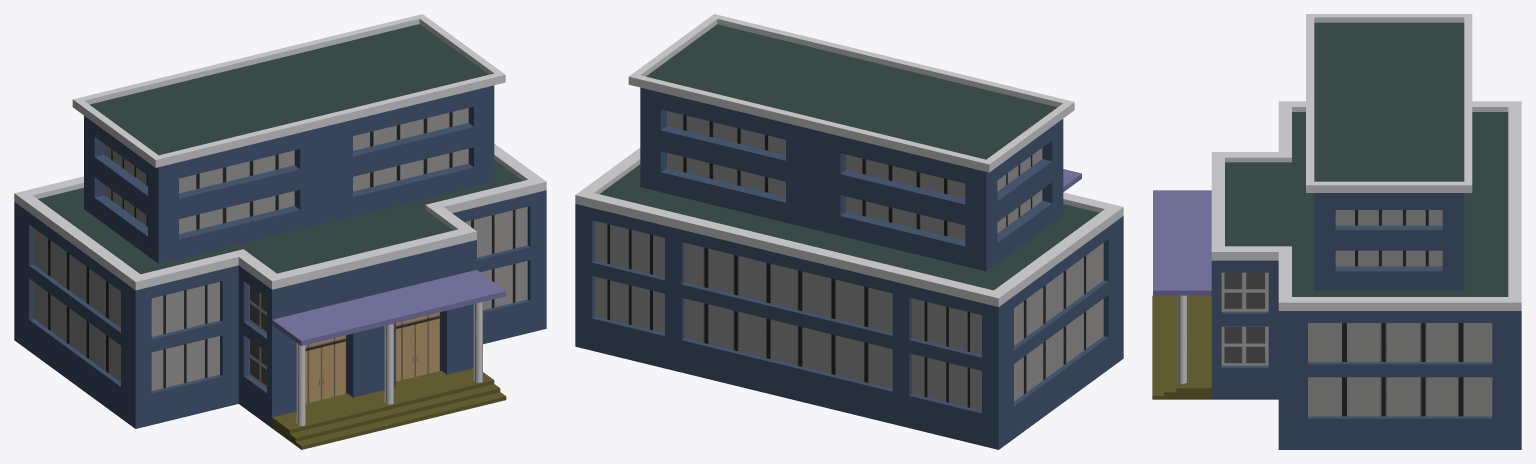
Rendered from building26b.FBX.
3 renders of one model, left to right at view 1: azimuth 30°, elevation 25°; view 2: azimuth 150°, elevation 25°; view 3: azimuth 270°, elevation 25°, orthographic. The views are drawn at different scales.
Parts seen in each view (by area): view 1: building26b; view 2: building26b; view 3: building26b.
Boxes of the visible parts, box(x1,y1,x2,y2) form: building26b: box(14, 14, 546, 449); building26b: box(575, 14, 1123, 449); building26b: box(1152, 14, 1521, 449).
Bounding box in the file's own units: 29.24 × 17.05 × 22.7.
